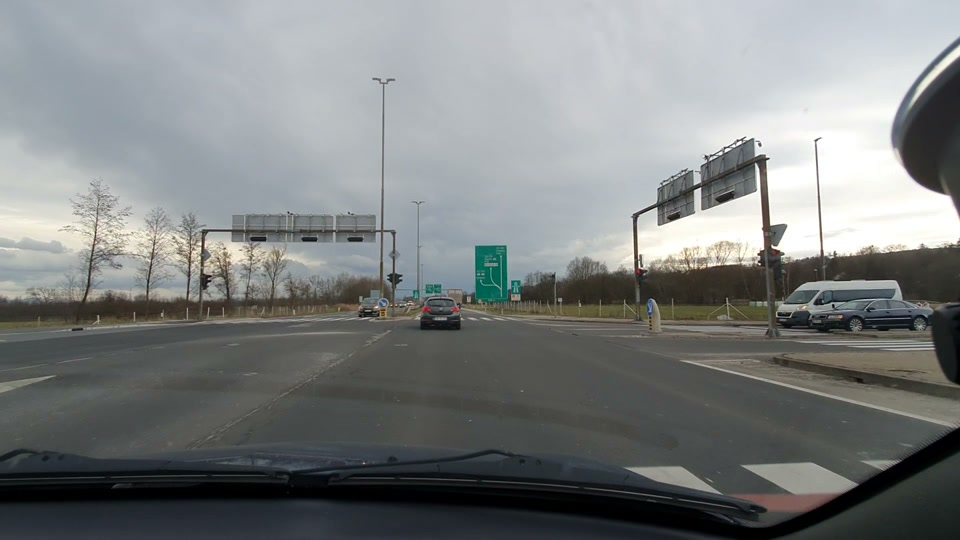vehicle_ign: (414, 296, 466, 336)
vehicle_r: (776, 273, 906, 335), (812, 291, 937, 340)
vehicle_s: (355, 293, 387, 319)
